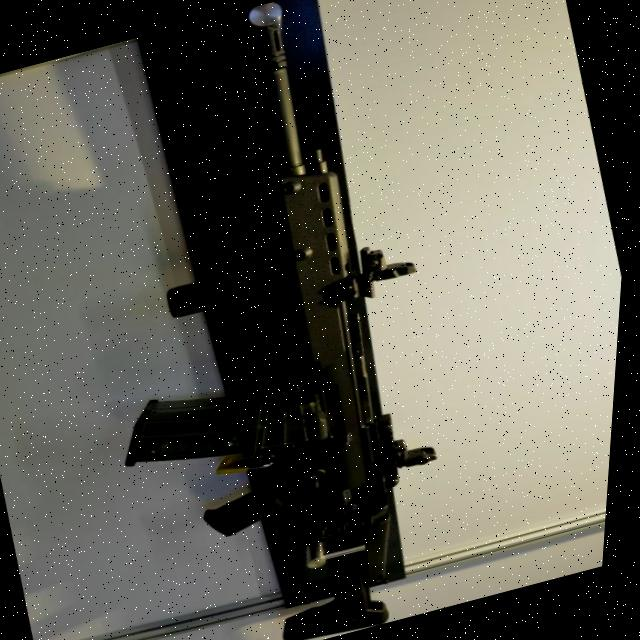firearm: (15, 1, 524, 640)
